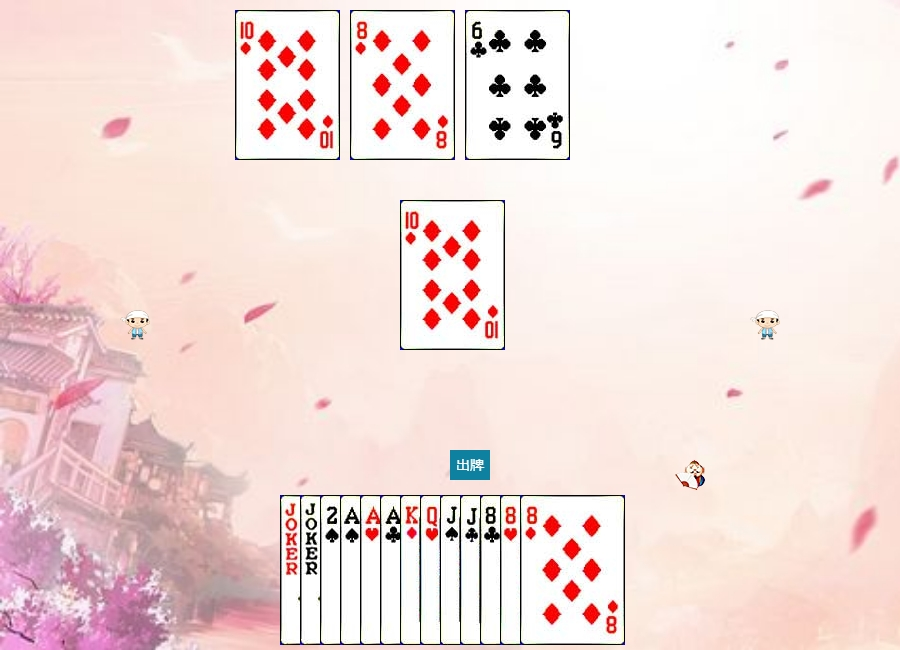10~1: (235, 10, 340, 160), (400, 200, 505, 350)
11~2: (460, 495, 565, 645)
11~4: (440, 495, 545, 645)
12~3: (420, 495, 525, 645)
13~1: (400, 495, 505, 645)
14~2: (380, 495, 485, 645)
14~3: (360, 495, 465, 645)
14~4: (340, 495, 445, 645)
15~4: (320, 495, 425, 645)
17~3: (300, 495, 405, 645)
18~4: (280, 495, 385, 645)
6~2: (465, 10, 570, 160)
8~1: (350, 10, 455, 160), (520, 495, 625, 645)
8~2: (480, 495, 585, 645)
8~3: (500, 495, 605, 645)
